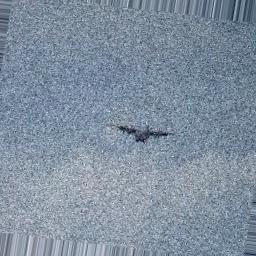Airplane: (114, 122, 173, 144)
